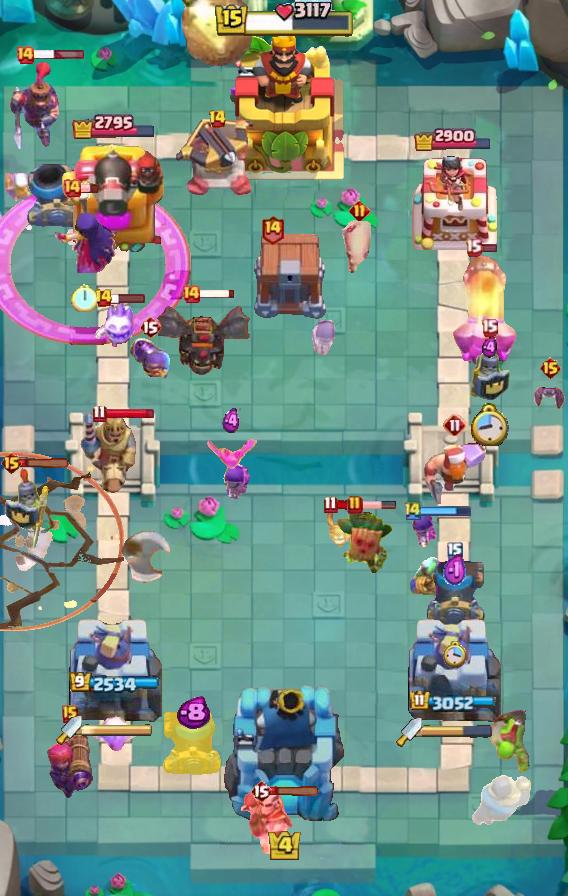axe: (118, 530, 174, 584)
bar: (104, 407, 155, 420), (420, 505, 472, 517), (269, 786, 321, 797), (19, 458, 71, 469), (33, 49, 85, 60), (110, 292, 146, 304), (199, 288, 236, 299), (361, 500, 397, 510), (336, 499, 355, 511), (80, 183, 99, 194), (479, 243, 498, 253)
bar-level: (260, 214, 285, 245), (443, 413, 467, 437), (0, 451, 23, 475), (539, 356, 562, 380), (250, 779, 272, 803), (139, 315, 161, 339), (349, 200, 370, 221), (403, 500, 423, 521), (181, 284, 201, 304), (62, 178, 82, 198), (15, 45, 35, 65), (94, 288, 113, 308), (208, 109, 227, 129), (481, 318, 498, 337), (465, 238, 482, 257), (347, 495, 363, 515), (62, 705, 78, 723), (447, 542, 463, 560), (323, 495, 338, 514), (92, 404, 107, 423)
bat: (533, 383, 567, 411)
bat-evolution: (205, 434, 257, 472)
cannoneer-tower: (60, 138, 168, 256)
clock: (470, 403, 509, 446), (71, 283, 97, 312), (443, 641, 467, 669)
dagger-duchess-tower: (405, 611, 501, 731), (66, 611, 162, 731)
dagger-duchess-tower-bar: (82, 723, 154, 737), (422, 725, 492, 739)
dart-goblin: (336, 510, 394, 578)
elixir: (176, 696, 210, 730), (443, 553, 467, 589), (222, 408, 241, 434), (482, 337, 497, 358)
firecracker-evolution: (46, 725, 94, 801)
goblin-ball: (488, 710, 538, 776)
guard: (3, 467, 51, 549), (465, 339, 513, 405)
hog: (342, 219, 376, 277)
ice-spirit-evolution: (93, 301, 141, 349), (93, 715, 143, 753)
king-tower: (222, 31, 346, 181), (221, 682, 347, 826)
king-tower-bar: (213, 0, 355, 40)
knight: (469, 772, 533, 828)
knight-evolution: (129, 336, 171, 379)
lava-pup: (324, 509, 354, 547)
lumberjack: (423, 435, 487, 505)
mortar: (163, 711, 223, 775), (425, 561, 485, 625), (27, 163, 87, 227)
queen-tower: (406, 152, 500, 256)
skeleton: (5, 173, 33, 205)
skeleton-evolution: (310, 320, 341, 358), (222, 463, 251, 501), (410, 514, 439, 550)
spear-goblin: (406, 556, 456, 600)
tower-bar: (71, 112, 157, 139), (69, 672, 160, 695), (413, 126, 493, 151), (410, 690, 496, 712)
witch: (52, 185, 116, 273)
